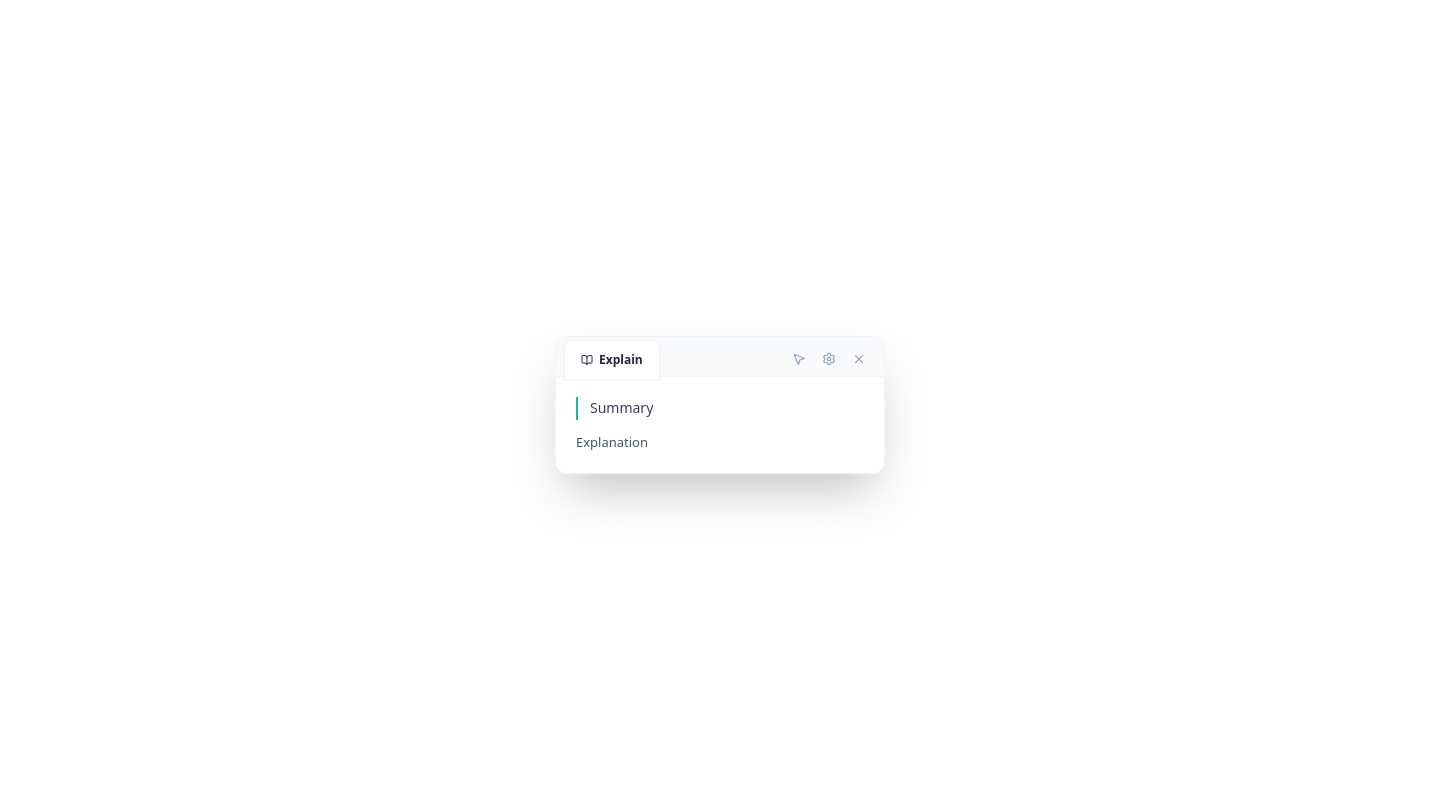
Test: Keyword Emphasis UI › should allow closing refine view
Click the button titled "refine with keywords" at {"x": 799, "y": 359}, box [786, 346, 812, 372]
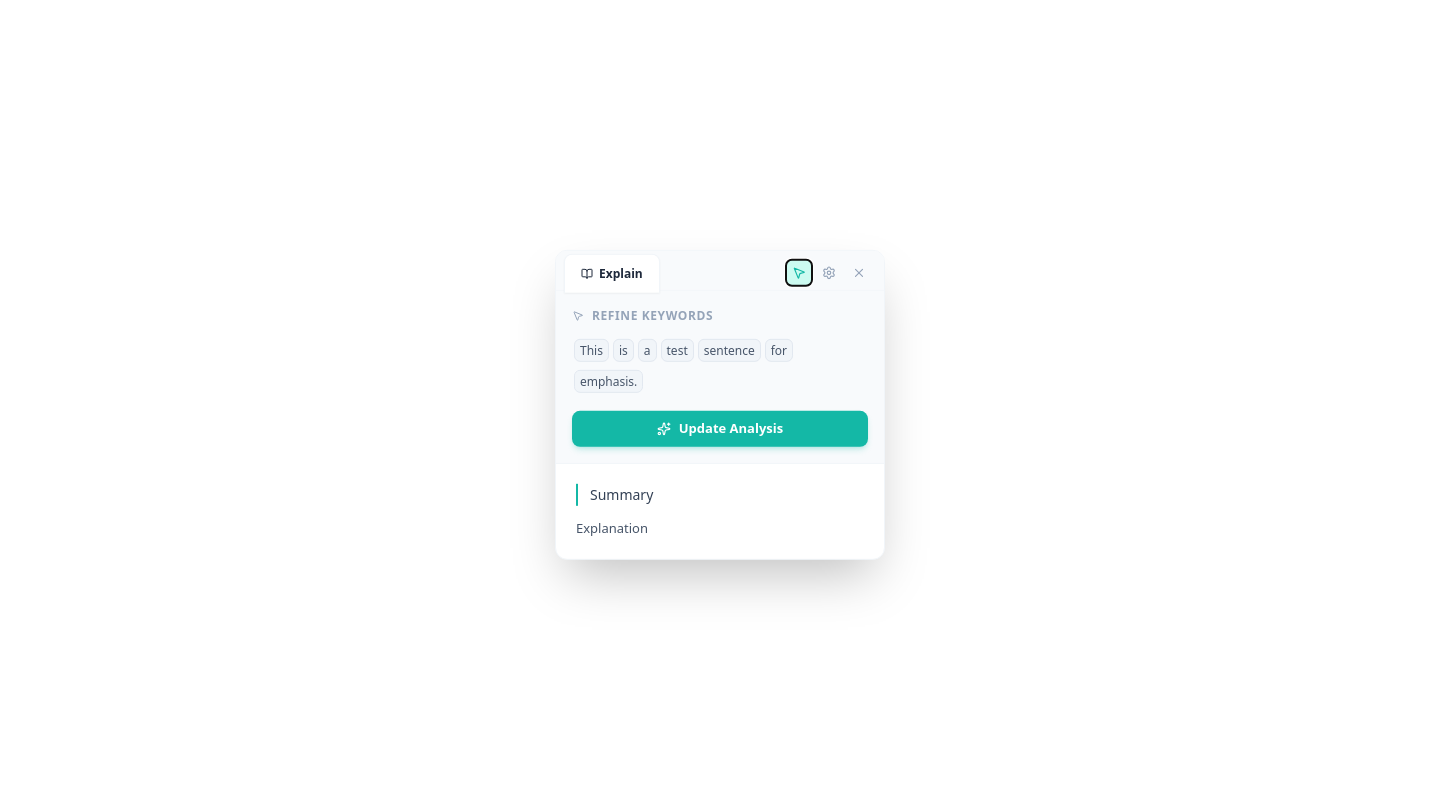
Expected: the heading "Refine Keywords" is shown, [592, 307, 713, 325]
Click the button titled "back to analysis" at {"x": 799, "y": 272}, box [786, 259, 812, 285]
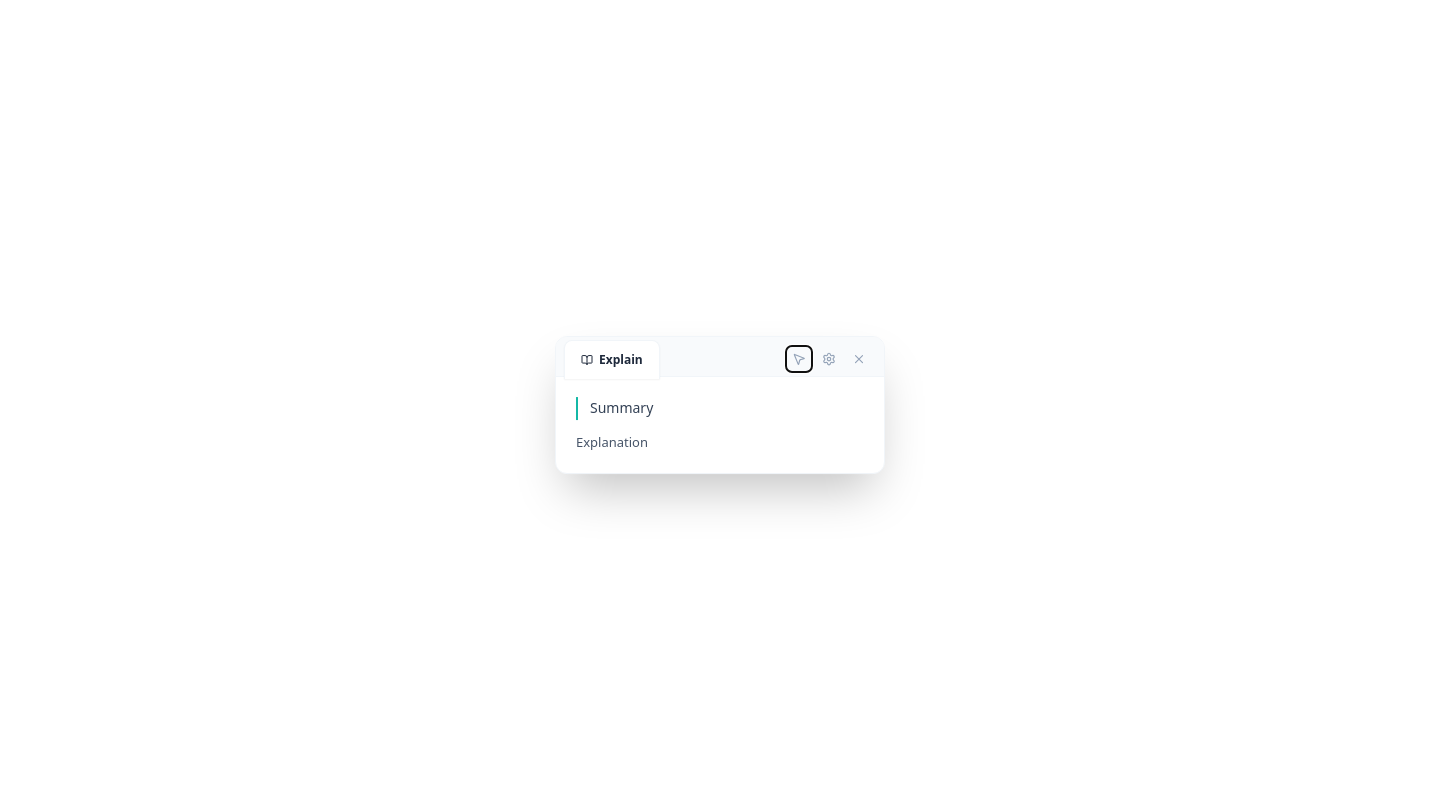
Expected: the heading "Refine Keywords" is gone
